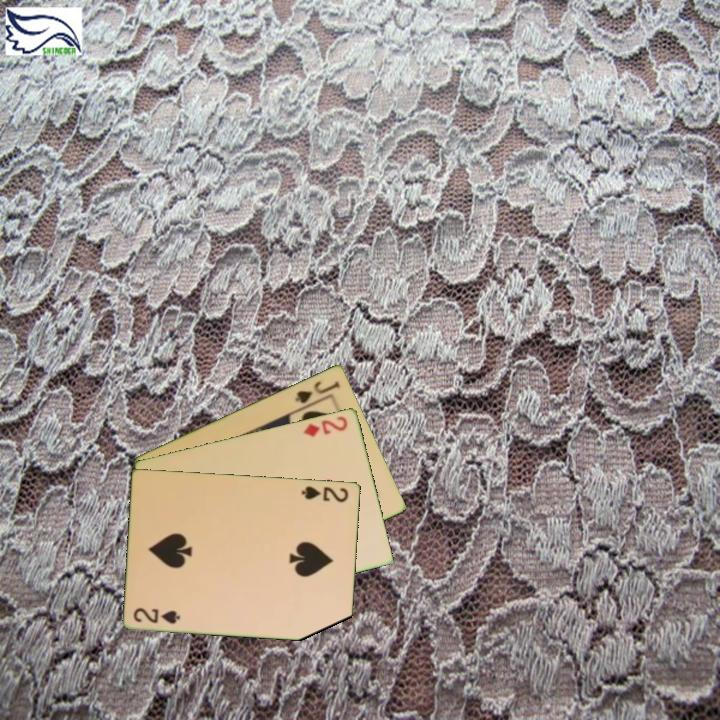2d: (300, 412, 351, 440)
2s: (298, 482, 351, 505), (130, 604, 183, 627)
Js: (291, 377, 343, 406)
